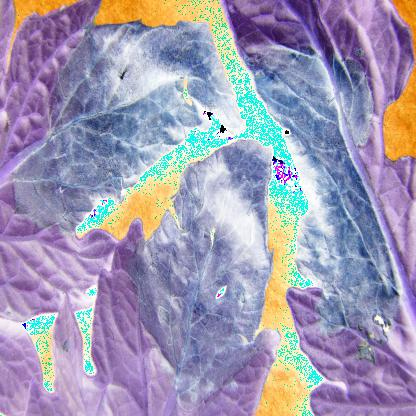Tomato leaf late blight: (0, 1, 231, 319), (48, 137, 292, 414)
